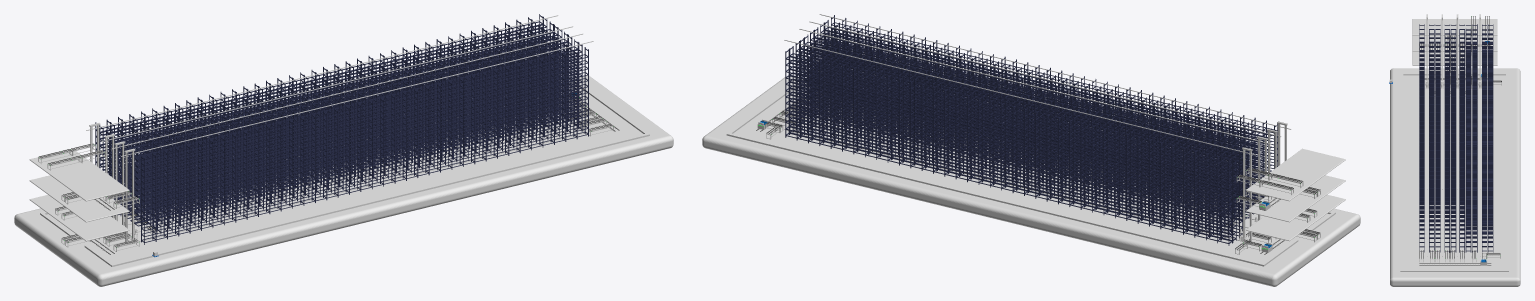
Rendered from 讯联新工厂.glb.
The picture shows the model from 3 angles, left to right: view 1: azimuth 30°, elevation 25°; view 2: azimuth 150°, elevation 25°; view 3: azimuth 270°, elevation 25°; orthographic projection. The views are drawn at different scales.
Parts seen in each view (by area): view 1: floor-1, 货架01, 货架02, 货架03, 货架05, 货架04, 货架06, 货架10, 货架08, 货架07, 货架09, 墙体1 (+8 smaller); view 2: floor-1, 货架10, 货架09, 货架07, 货架08, 货架06, 货架02, 货架05, 货架04, 货架01, 货架03, 墙体1 (+8 smaller); view 3: floor-1, 墙体1, 货架07, 货架05, floor-4, 货架09, 货架10, 货架08, 货架01, 货架06, 货架04, 货架02 (+12 smaller).
Part boxes in pixels (x1=…): floor-1: x1=14, y1=75, x2=673, y2=286; 货架01: x1=141, y1=47, x2=588, y2=244; 货架02: x1=134, y1=42, x2=582, y2=234; 货架03: x1=130, y1=39, x2=578, y2=229; 货架05: x1=120, y1=31, x2=567, y2=222; 货架04: x1=124, y1=34, x2=572, y2=225; 货架06: x1=114, y1=27, x2=562, y2=217; 货架10: x1=95, y1=14, x2=543, y2=199; 货架08: x1=106, y1=21, x2=553, y2=216; 货架07: x1=110, y1=24, x2=557, y2=214; 货架09: x1=99, y1=17, x2=547, y2=205; 墙体1: x1=40, y1=82, x2=649, y2=266; floor-1: x1=702, y1=75, x2=1360, y2=286; 货架10: x1=785, y1=49, x2=1232, y2=245; 货架09: x1=789, y1=46, x2=1236, y2=242; 货架07: x1=800, y1=38, x2=1247, y2=226; 货架08: x1=795, y1=41, x2=1242, y2=237; 货架06: x1=804, y1=34, x2=1251, y2=224; 货架02: x1=824, y1=20, x2=1271, y2=209; 货架05: x1=810, y1=30, x2=1257, y2=220; 货架04: x1=814, y1=27, x2=1261, y2=217; 货架01: x1=831, y1=15, x2=1277, y2=205; 货架03: x1=820, y1=23, x2=1267, y2=212; 墙体1: x1=726, y1=82, x2=1335, y2=266; floor-1: x1=1390, y1=68, x2=1520, y2=286; 墙体1: x1=1400, y1=73, x2=1508, y2=271; 货架07: x1=1465, y1=25, x2=1471, y2=252; 货架05: x1=1450, y1=25, x2=1456, y2=252; floor-4: x1=1412, y1=19, x2=1497, y2=35; 货架09: x1=1482, y1=24, x2=1487, y2=252; 货架10: x1=1488, y1=24, x2=1493, y2=252; 货架08: x1=1472, y1=24, x2=1477, y2=252; 货架01: x1=1419, y1=24, x2=1424, y2=252; 货架06: x1=1459, y1=24, x2=1464, y2=252; 货架04: x1=1444, y1=24, x2=1449, y2=252; 货架02: x1=1429, y1=24, x2=1434, y2=252.
Size of the model in its own units: 67.02 by 11.97 by 17.56.
